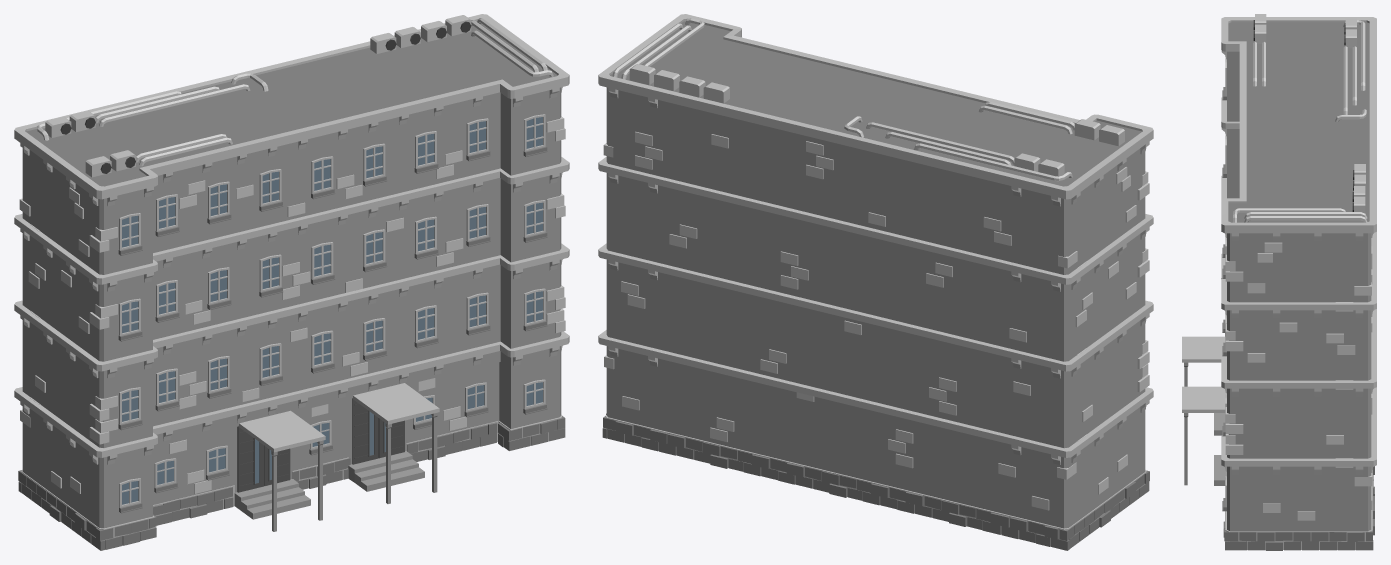
File: qtb_4story_wide_2doors.fbx
3 views of the same model, side by side, from view 1: azimuth 30°, elevation 25°; view 2: azimuth 150°, elevation 25°; view 3: azimuth 270°, elevation 25° (orthographic). The views are drawn at different scales.
Visible parts, largest first — view 1: qtb_4story_wide_2doors_LOD0; view 2: qtb_4story_wide_2doors_LOD0; view 3: qtb_4story_wide_2doors_LOD0.
Boxes of the visible parts, x1,y1,x2,y2 form: qtb_4story_wide_2doors_LOD0: (14,14,569,550); qtb_4story_wide_2doors_LOD0: (598,14,1153,550); qtb_4story_wide_2doors_LOD0: (1182,14,1376,550).
Size of what is drawn, in the model's own units: 18.44 by 13.91 by 7.28.
1 material, 1 textured.
